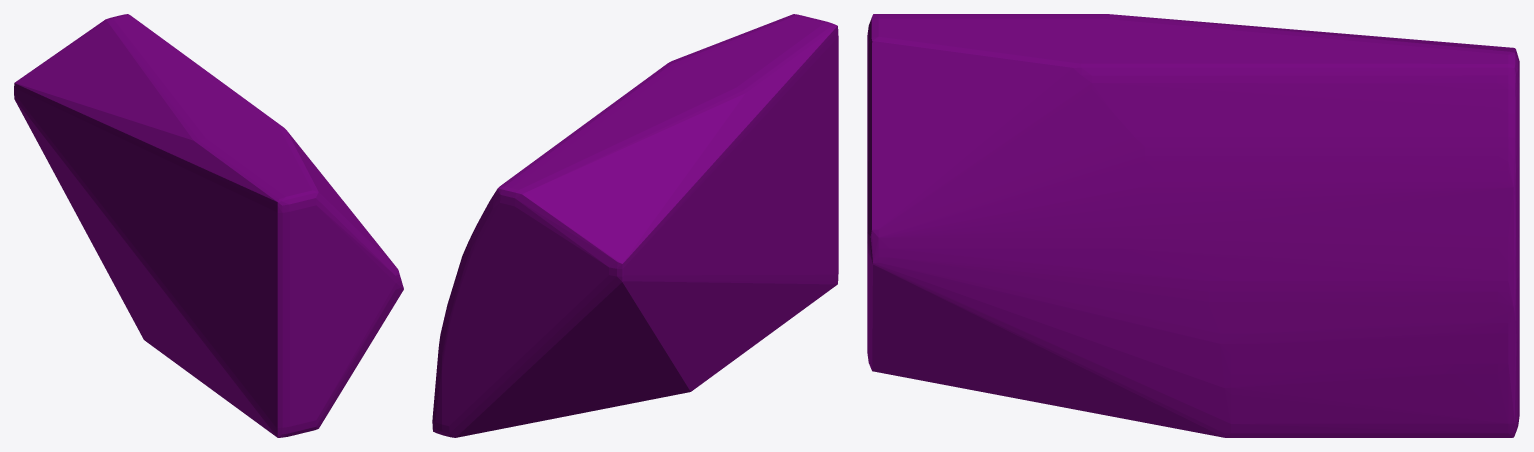
The model's file is right_shoulder_roll_link_part_11.obj.
3 views of the same model, side by side, from view 1: azimuth 30°, elevation 25°; view 2: azimuth 150°, elevation 25°; view 3: azimuth 270°, elevation 25° (orthographic). The views are drawn at different scales.
Bounding box in the file's own units: 0.019 × 0.0249 × 0.0442.
